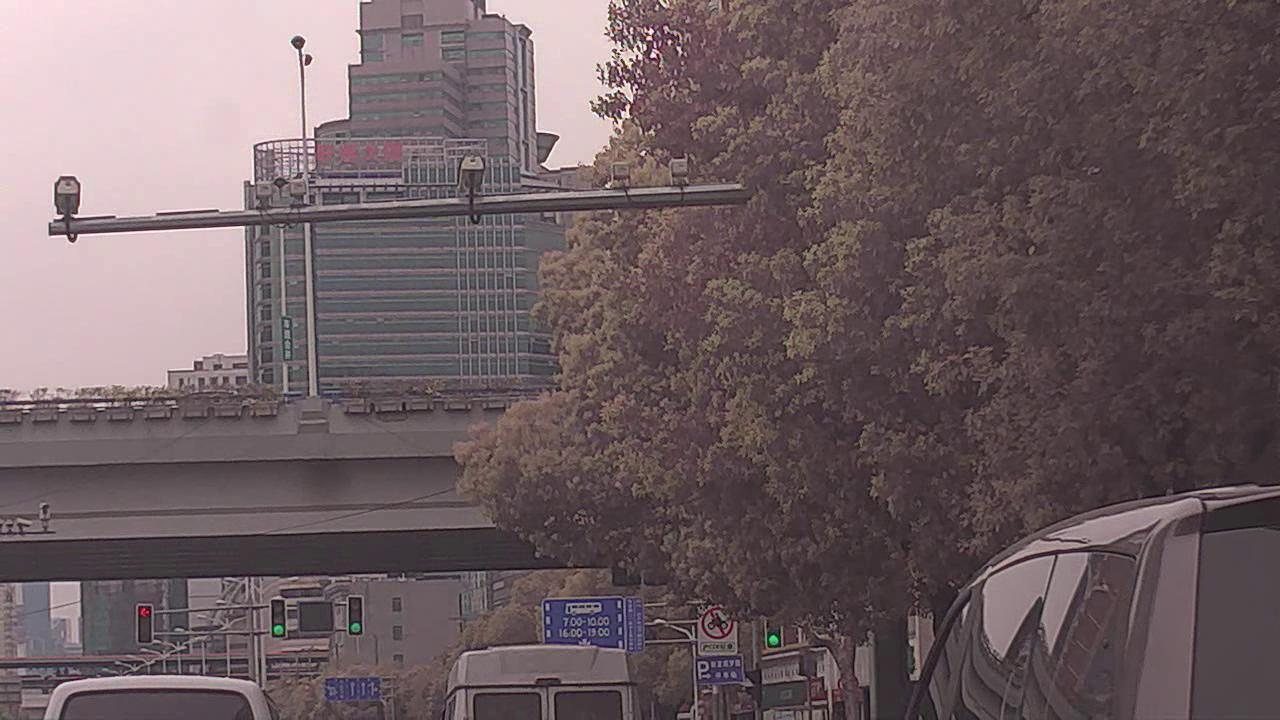traffic_light: (268, 598, 286, 641), (348, 596, 364, 635), (139, 603, 154, 642), (766, 620, 784, 650)
